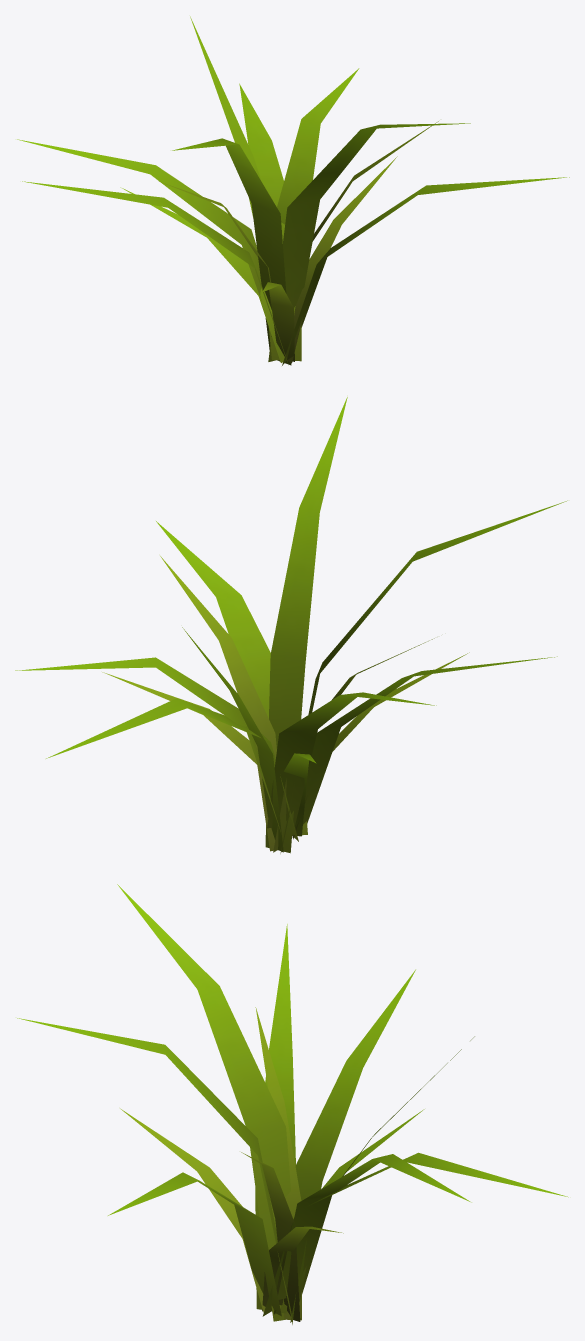
Rendered from Bush_Grassy_C.fbx.
3 renders of one model, top to bottom at view 1: azimuth 30°, elevation 25°; view 2: azimuth 150°, elevation 25°; view 3: azimuth 270°, elevation 25°, orthographic. The views are drawn at different scales.
Parts seen in each view (by area): view 1: Bush_Grassy_C; view 2: Bush_Grassy_C; view 3: Bush_Grassy_C.
Boxes of the visible parts, x1,y1,x2,y2 form: Bush_Grassy_C: (17, 16, 569, 365); Bush_Grassy_C: (15, 397, 567, 853); Bush_Grassy_C: (17, 884, 568, 1324).
Bounding box in the file's own units: 159 × 154 × 103.
Materials: 1 (1 with a texture image).
